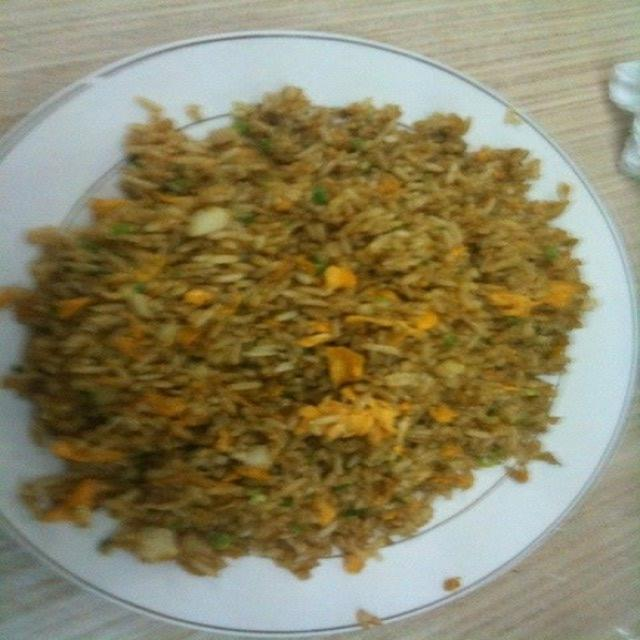米饭主食: (21, 58, 615, 623)
